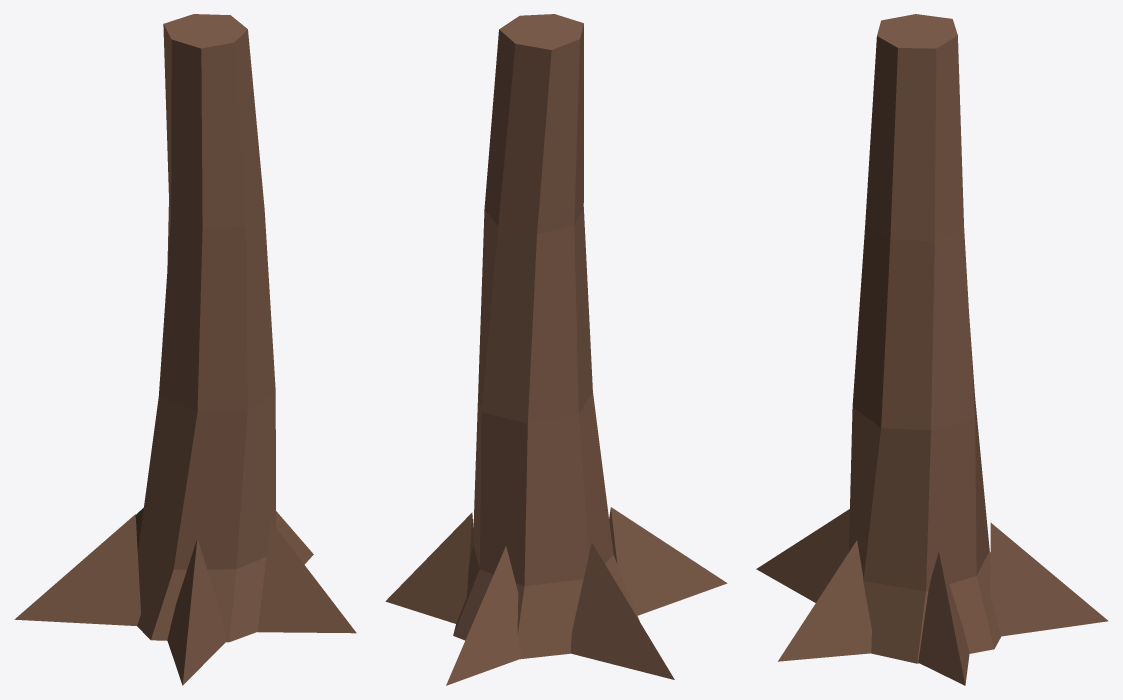
File: tree_trunk.glb
The picture shows the model from 3 angles, left to right: view 1: azimuth 30°, elevation 25°; view 2: azimuth 150°, elevation 25°; view 3: azimuth 270°, elevation 25°; orthographic projection. The views are drawn at different scales.
Parts seen in each view (by area): view 1: bark; view 2: bark; view 3: bark.
Boxes of the visible parts, x1,y1,x2,y2 form: bark: [14, 14, 356, 685]; bark: [385, 14, 727, 685]; bark: [756, 14, 1108, 685].
Size of the model in its own units: 1.69 by 3.2 by 1.73.
